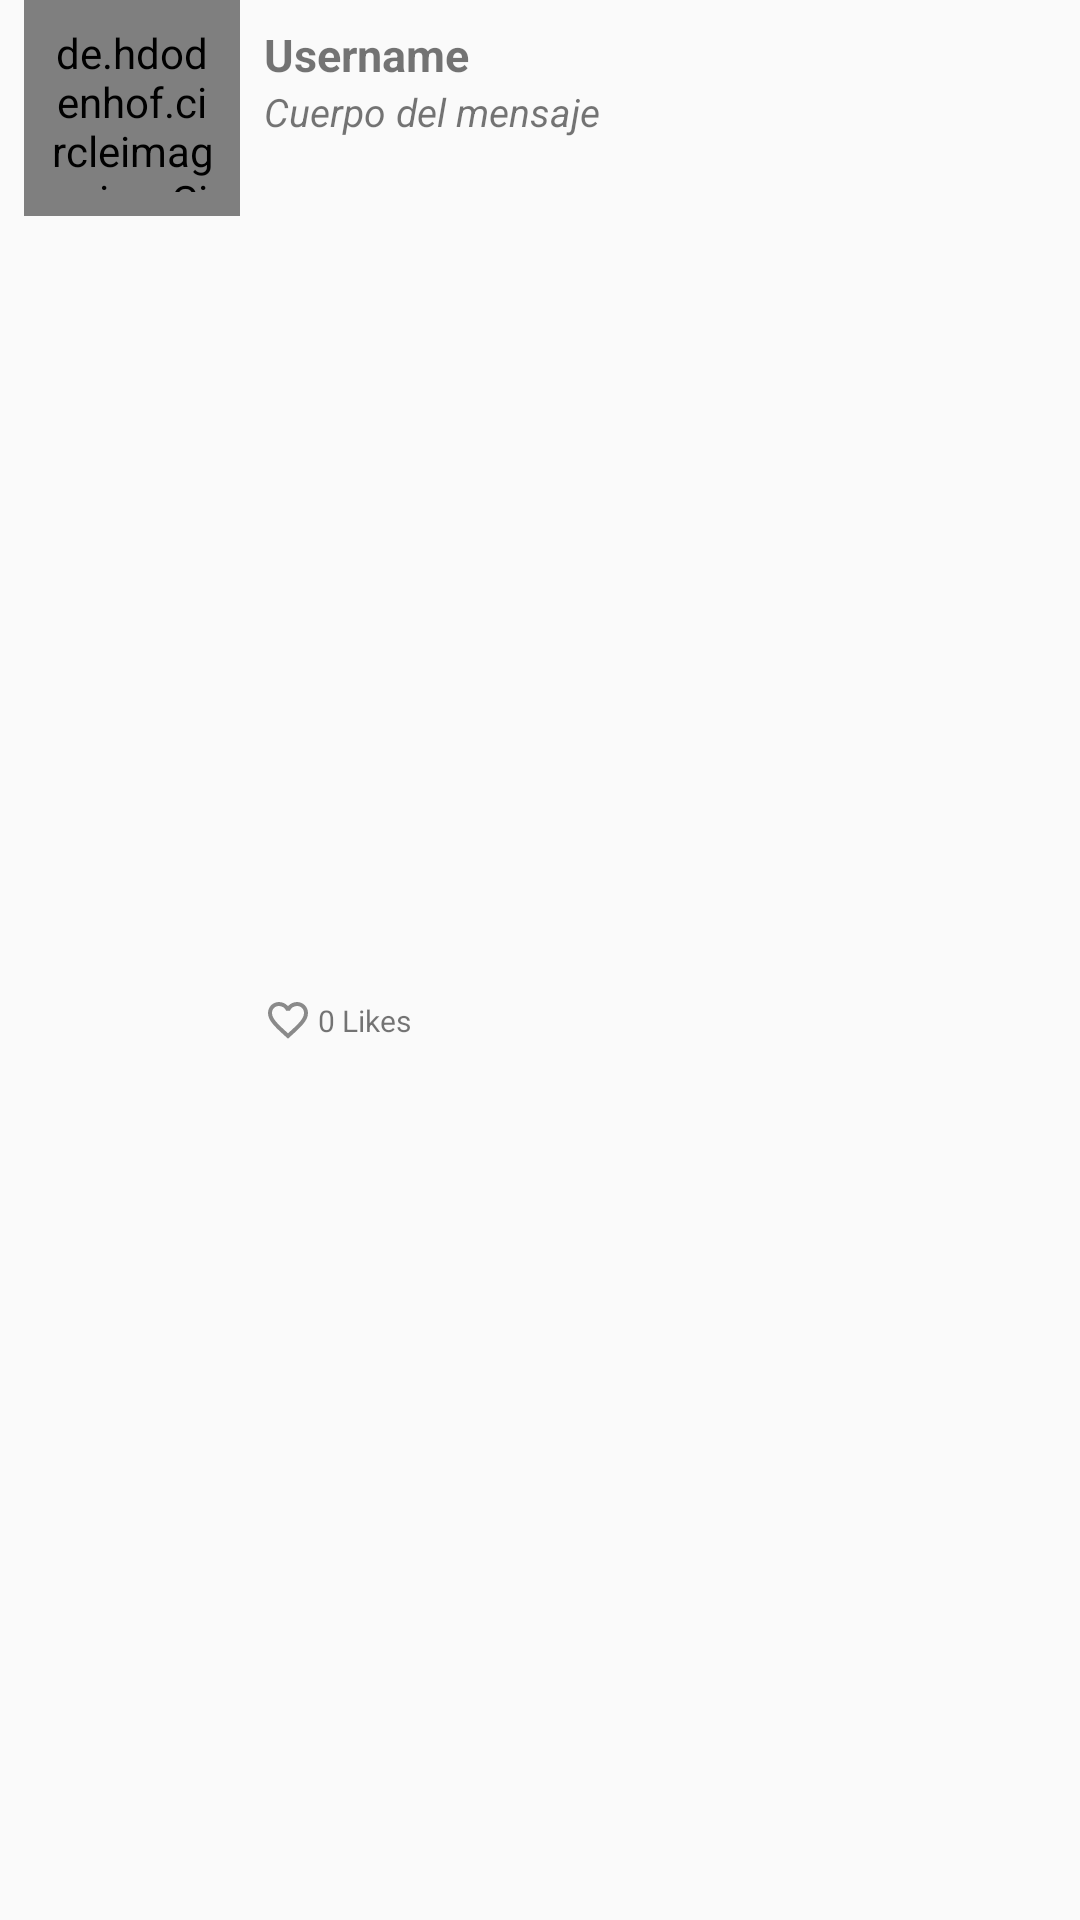

Screen size 1080*1920. Icon name, then its box in pixels as (x1, y1, x2, y2):
tweet linke: (268, 1002, 308, 1039)
